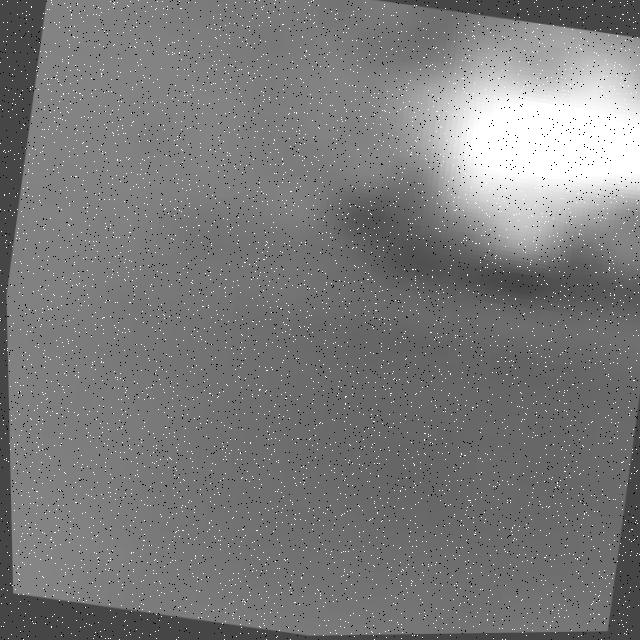person: (337, 1, 640, 262)
